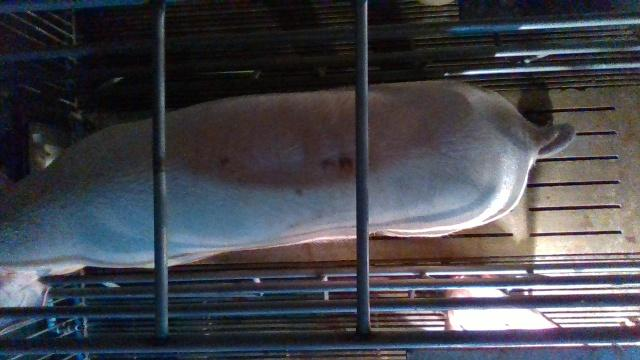sow-stand-feed: (2, 83, 573, 275)
